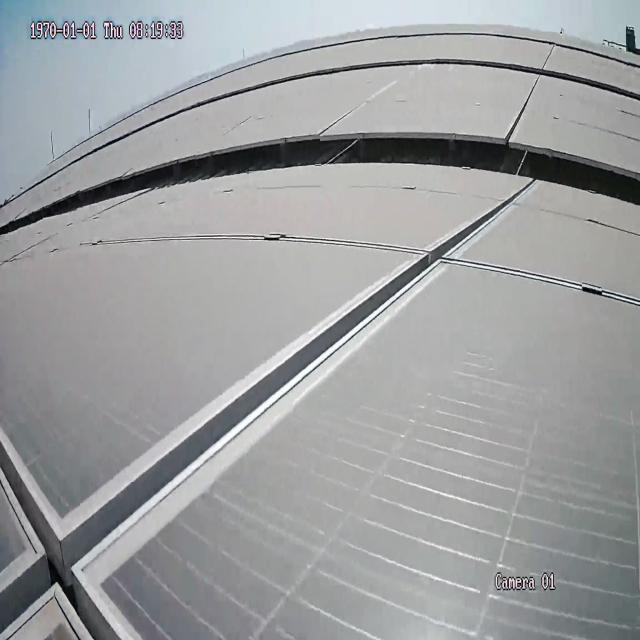interior panel: (0, 182, 534, 640)
outher panel: (11, 133, 640, 232)
